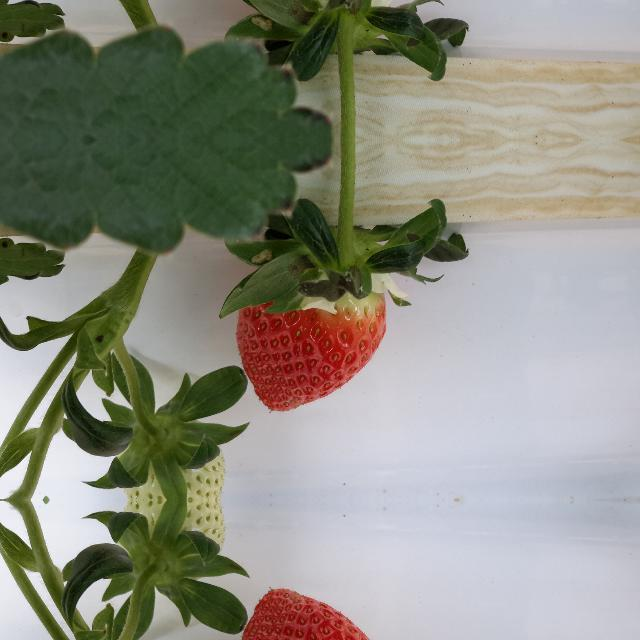Health_100: (235, 288, 385, 414), (235, 586, 385, 640)
Health_25: (108, 413, 225, 499), (108, 501, 225, 587)
